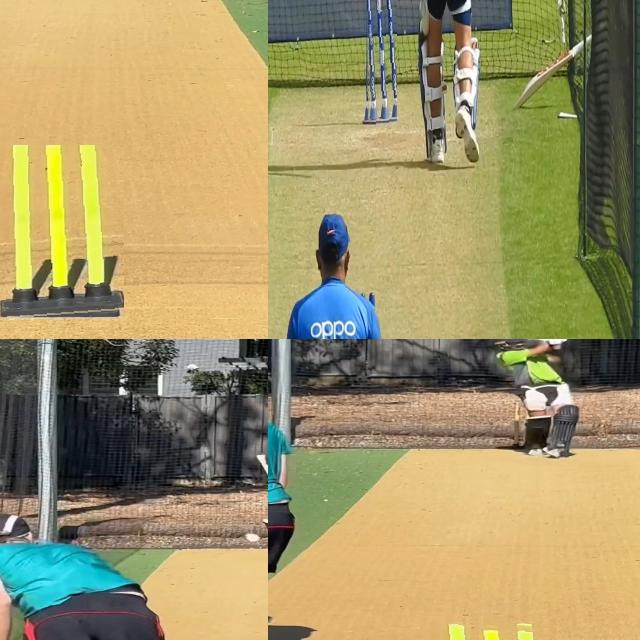Cricket ball: (242, 531, 262, 543)
Stumps: (0, 144, 124, 319), (363, 0, 397, 126)
